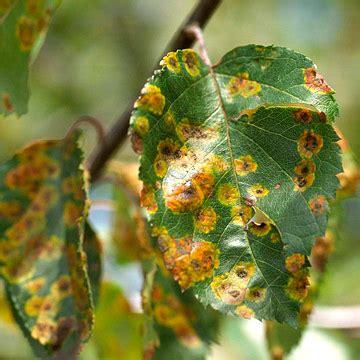black-spot: (271, 118, 327, 205)
